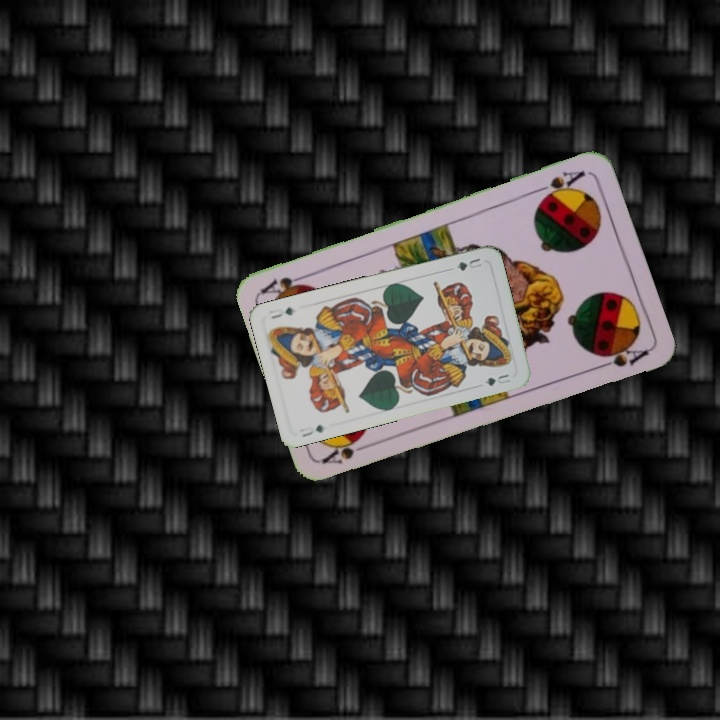GU: (452, 254, 485, 274), (297, 421, 326, 440)
SA: (531, 166, 588, 204), (318, 436, 376, 467)
